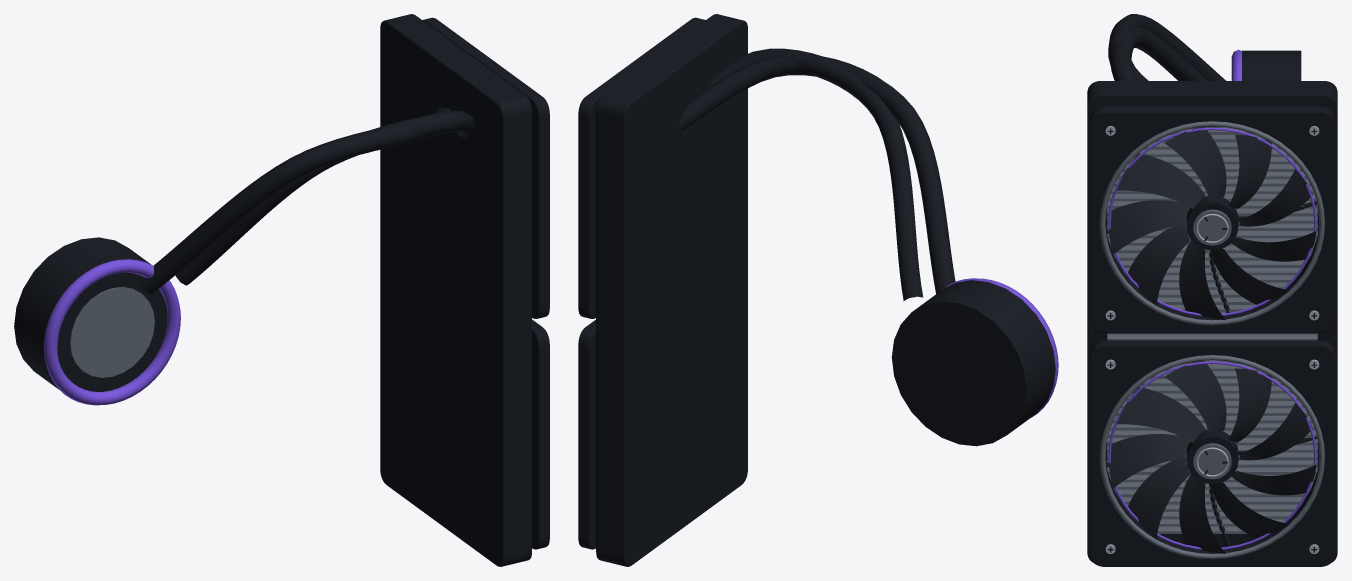
Rendered from nexrig-aio.glb.
3 renders of one model, left to right at view 1: azimuth 30°, elevation 25°; view 2: azimuth 150°, elevation 25°; view 3: azimuth 270°, elevation 25°, orthographic.
Parts seen in each view (by area): view 1: Original generic liquid cooler; view 2: Original generic liquid cooler; view 3: Original generic liquid cooler, Fan rotor (×2).
Boxes of the visible parts, box(x1,y1,x2,y2) form: Original generic liquid cooler: box(14, 14, 549, 566); Original generic liquid cooler: box(578, 14, 1058, 566); Original generic liquid cooler: box(1087, 14, 1337, 566); Fan rotor (×2): box(1108, 127, 1316, 553).
Bounding box in the file's own units: 1.59 × 1.58 × 0.7616.
